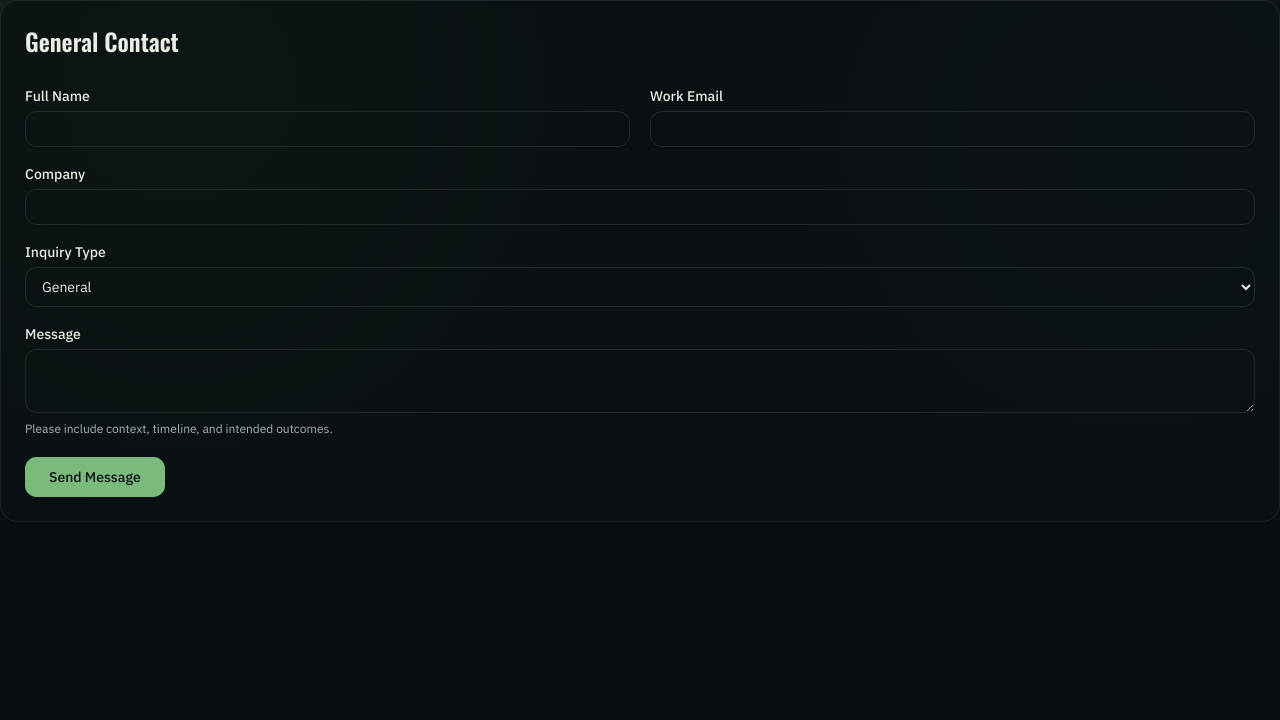
Test case: ContactForm › surfaces backend field errors with highlighted inputs
In the field labelled "Full Name": (328, 129) [25,111,630,147], type "Jordan Lee"
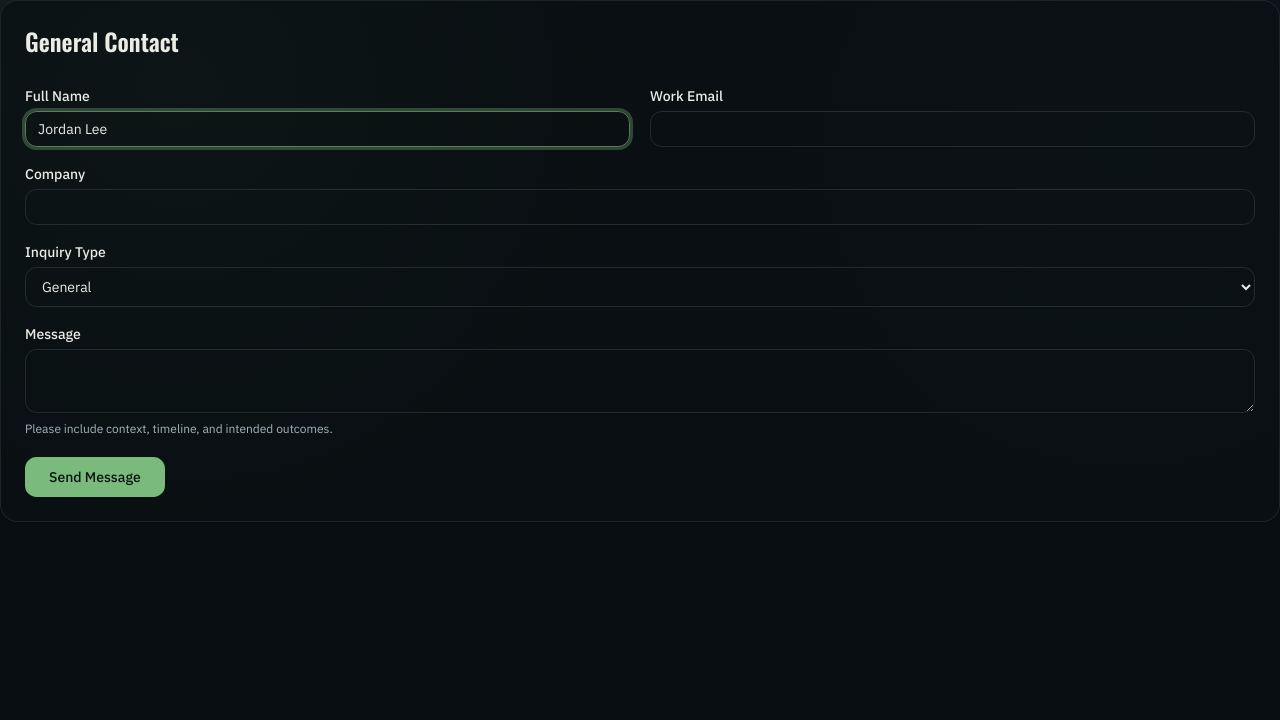
In the field labelled "Work Email": (952, 129) [650,111,1255,147], type "jordan@example.com"
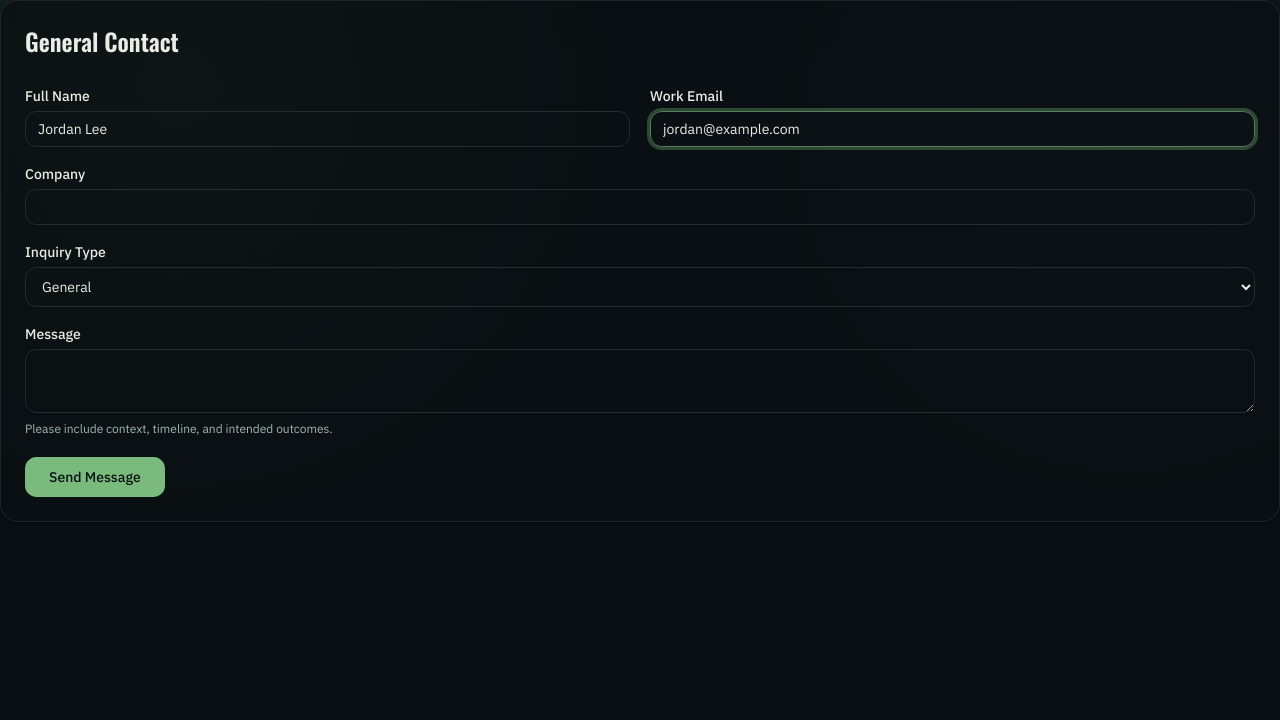
In the field labelled "Company": (640, 207) [25,189,1255,225], type "AB"
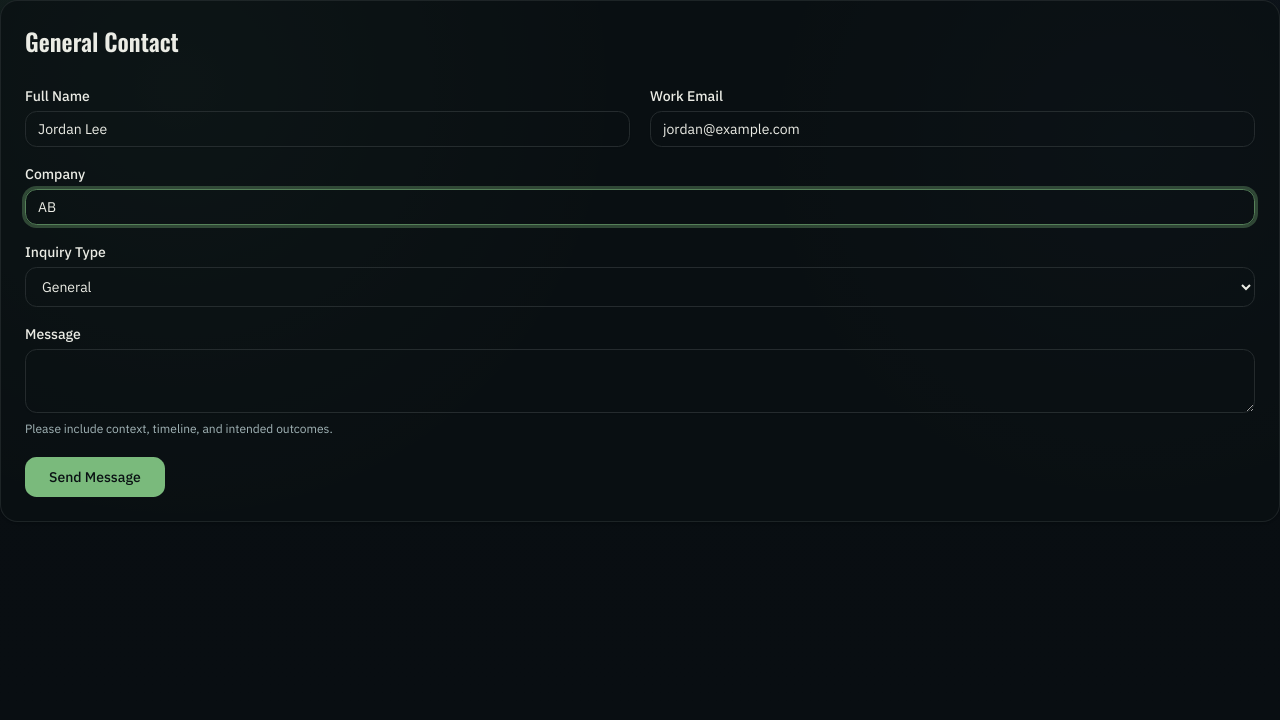
In the text box labelled "Message": (640, 381) [25,349,1255,413], type "We want to discuss pilot sample qualification in Q3 and potential offtake pathways."
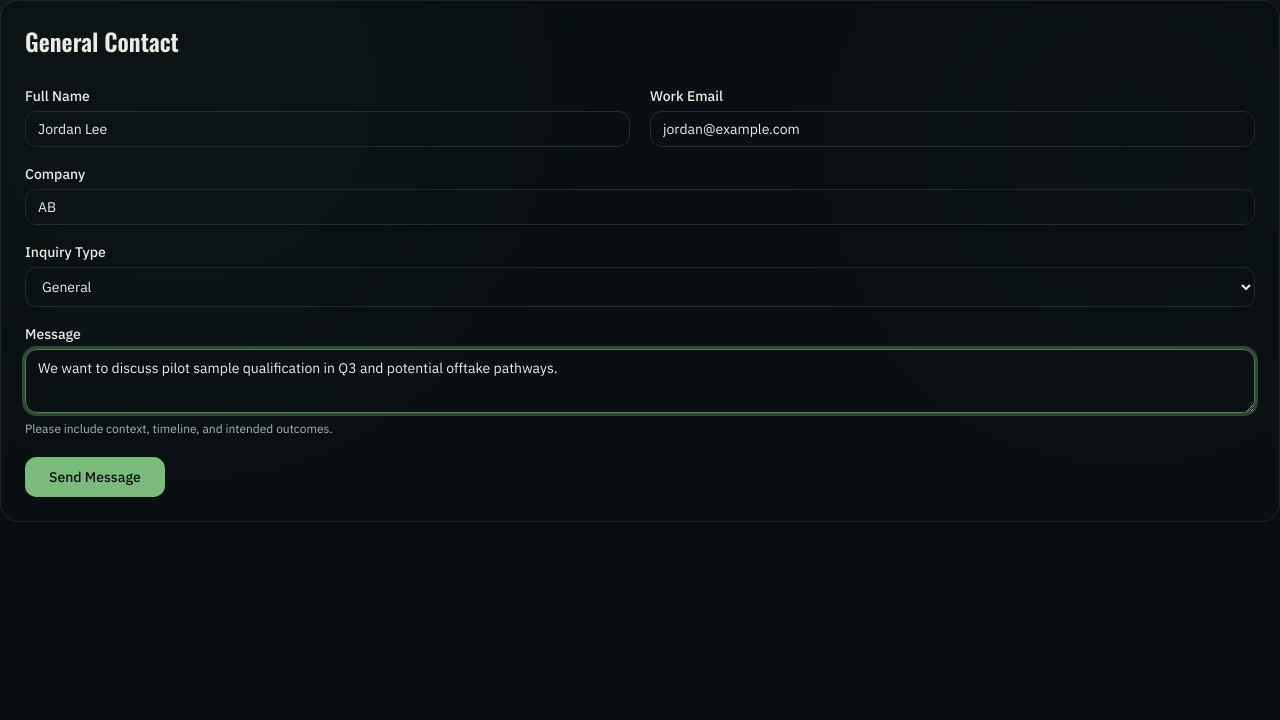
Click the button "Send Message": click(95, 477) [25,457,165,497]
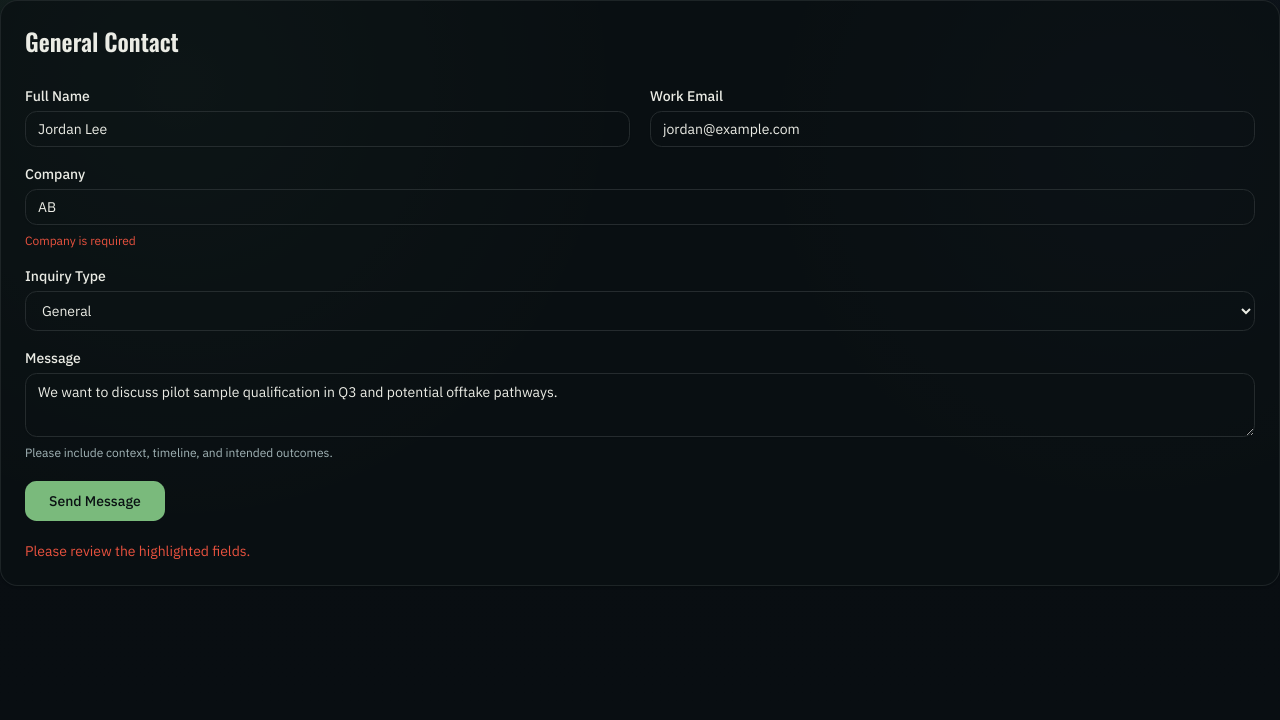
expect the text "Company is required" is shown: met, box [25,233,136,248]
